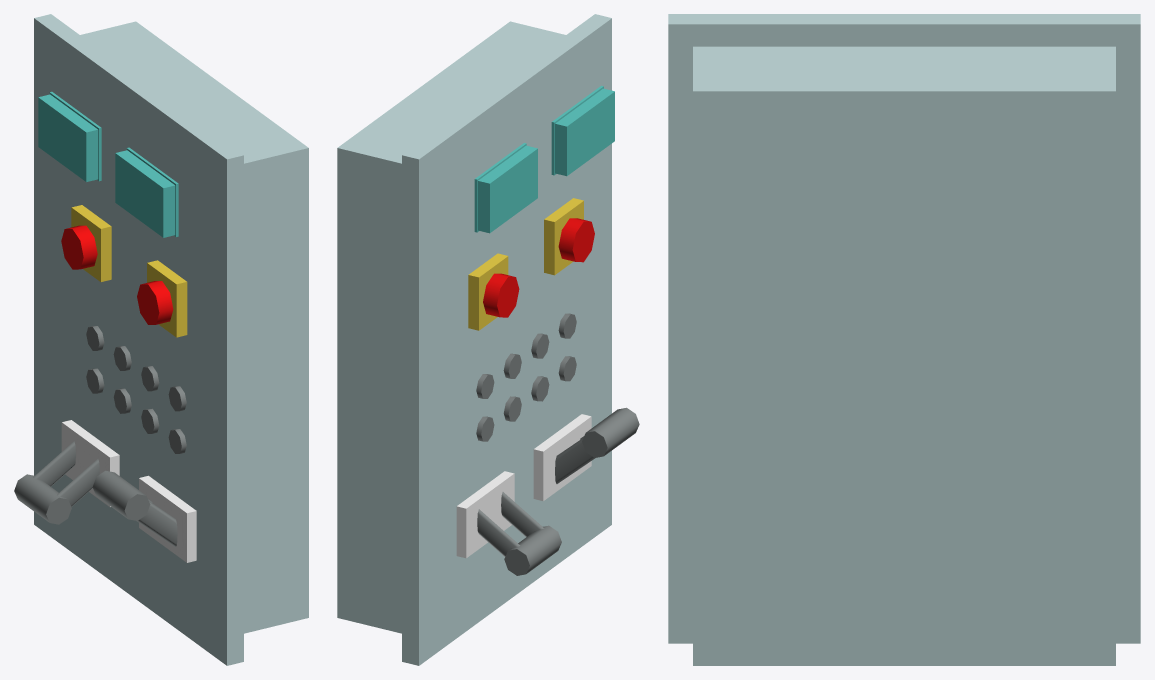
File: Equipo.fbx
The picture shows the model from 3 angles, left to right: view 1: azimuth 30°, elevation 25°; view 2: azimuth 150°, elevation 25°; view 3: azimuth 270°, elevation 25°; orthographic projection. The views are drawn at different scales.
Parts seen in each view (by area): view 1: Box064, Box067, Box066, Box071, Box070, Cylinder018, Cylinder017, Box069, Box068, Cylinder003, Cylinder004, Cylinder016 (+2 smaller); view 2: Box064, Box067, Box066, Box070, Box071, Cylinder018, Cylinder017, Box068, Box069, Cylinder003, Cylinder004, Cylinder015 (+2 smaller); view 3: Box064.
Boxes of the visible parts, x1,y1,x2,y2 form: Box064: [34, 14, 308, 665]; Box067: [115, 147, 178, 237]; Box066: [38, 91, 101, 181]; Box071: [139, 475, 196, 562]; Box070: [61, 420, 119, 506]; Cylinder018: [92, 470, 150, 520]; Cylinder017: [14, 474, 71, 524]; Box069: [147, 260, 187, 337]; Box068: [71, 205, 111, 281]; Cylinder003: [61, 225, 97, 269]; Cylinder004: [137, 281, 173, 324]; Cylinder016: [137, 501, 177, 547]; Box064: [337, 14, 611, 665]; Box067: [551, 85, 614, 176]; Box066: [474, 143, 537, 233]; Box070: [456, 471, 514, 558]; Box071: [533, 414, 591, 501]; Cylinder018: [582, 407, 639, 457]; Cylinder017: [504, 525, 561, 575]; Box068: [468, 253, 508, 330]; Box069: [544, 198, 583, 275]; Cylinder003: [483, 273, 519, 317]; Cylinder004: [558, 218, 594, 262]; Cylinder015: [555, 438, 595, 483]; Box064: [668, 14, 1140, 665].
Bounding box in the file's own units: 17.12 × 52.69 × 36.39.
Materials: 6 (6 with a texture image).
